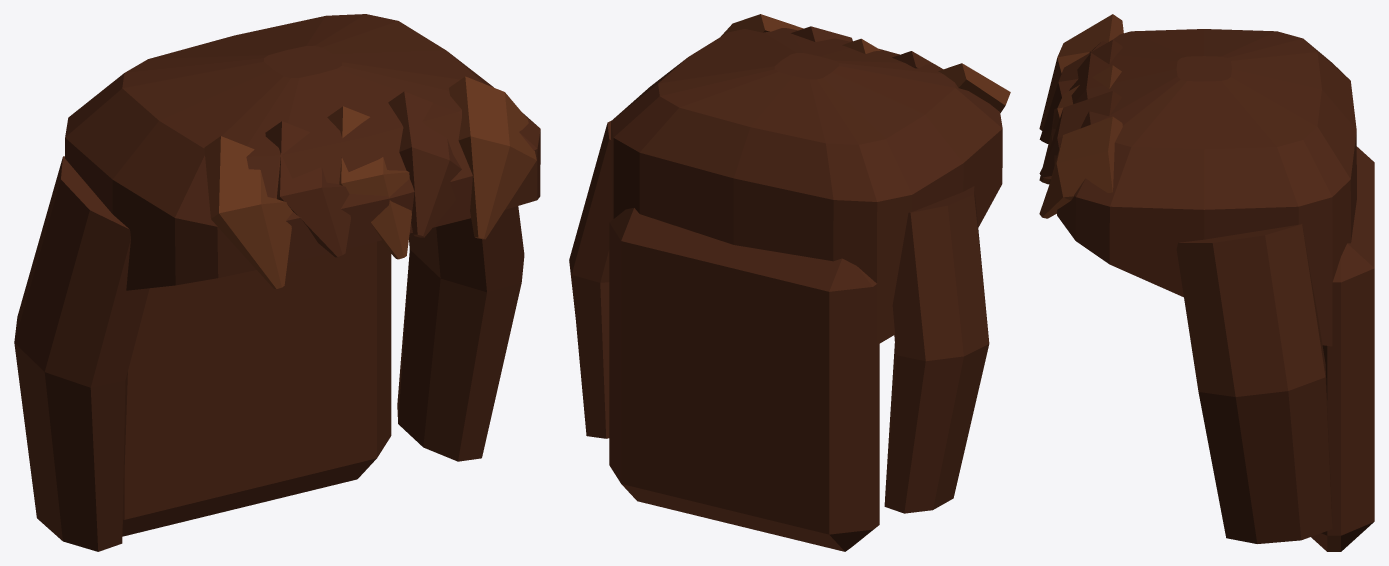
Rendered from SM_NPC_Hair_03_Long.glb.
3 views of the same model, side by side, from view 1: azimuth 30°, elevation 25°; view 2: azimuth 150°, elevation 25°; view 3: azimuth 270°, elevation 25° (orthographic). The views are drawn at different scales.
Visible parts, largest first — view 1: SM_NPC_Hair_03_Long; view 2: SM_NPC_Hair_03_Long; view 3: SM_NPC_Hair_03_Long.
Part boxes in pixels (x1,y1,x2,y2): SM_NPC_Hair_03_Long: [14, 14, 540, 551]; SM_NPC_Hair_03_Long: [569, 14, 1010, 551]; SM_NPC_Hair_03_Long: [1039, 14, 1374, 551].
Size of the model in its own units: 0.8244 by 0.822 by 0.5805.
